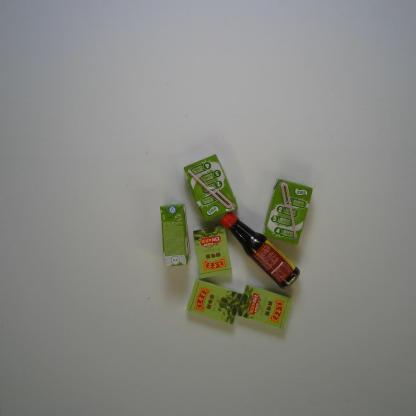Candy: (186, 278, 243, 326), (236, 283, 292, 330), (192, 224, 233, 280)
Milk: (183, 152, 239, 222), (262, 178, 314, 246), (159, 202, 192, 268)
Seasoner: (219, 211, 301, 290)
